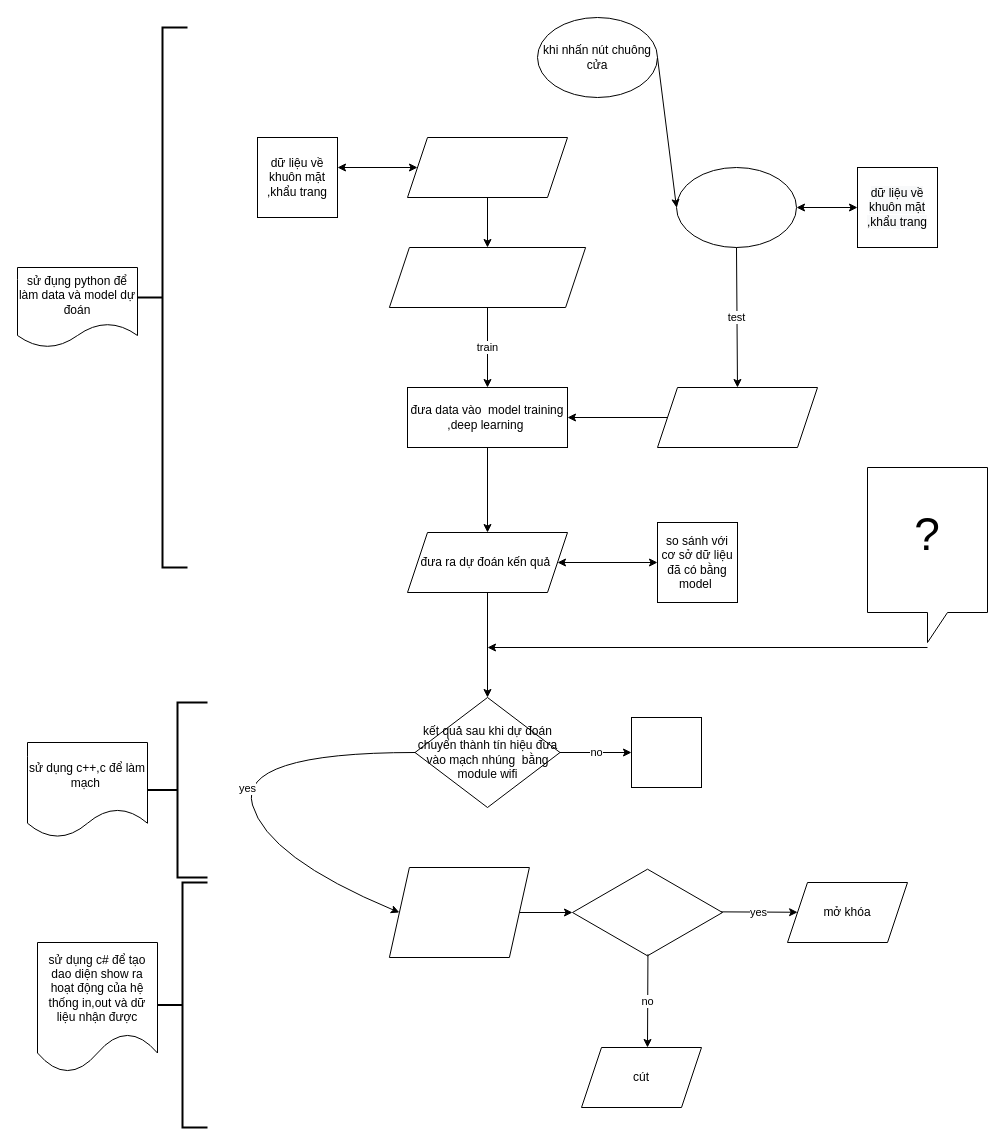
The diagram is 1005 pixels wide and 1146 high, and some of its shapes have lost their labels. The shapes that lost their labels are listed below. From the top down, each one's centre as x and y in pixels, then its label:
(487,167): processing data trainning
(736,207): Lấy data về khuôn mặt ở thời điểm hiện tại
(487,277): tạo model training : opencv,keras,vgg19
(737,417): preprocessing data test
(666,752): đưa ra cảnh báo người dùng nếu sai mặt
(458,912): lưu lại thông tin người vào: thời gian ,tên
(647,912): đúng mặt , có khẩu trang hay không
